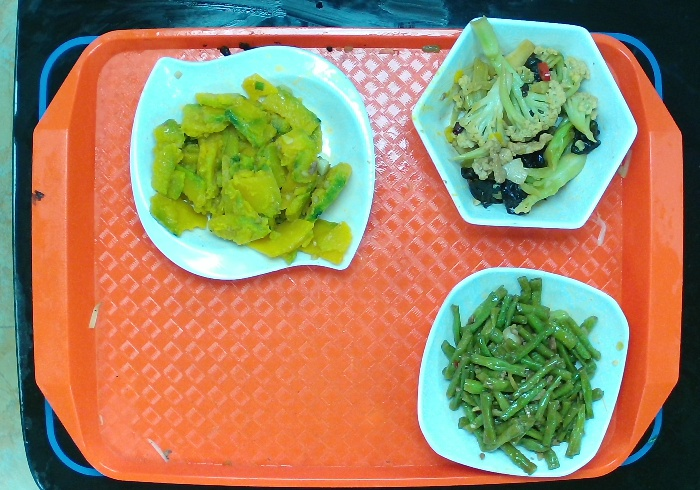RJxy-Liu_Jiao_Wan: (413, 15, 638, 234)
RJxy-Shuang_Jiao_Pan: (127, 45, 377, 283)
RJxy-Si_Fang_Wan: (413, 263, 631, 476)
